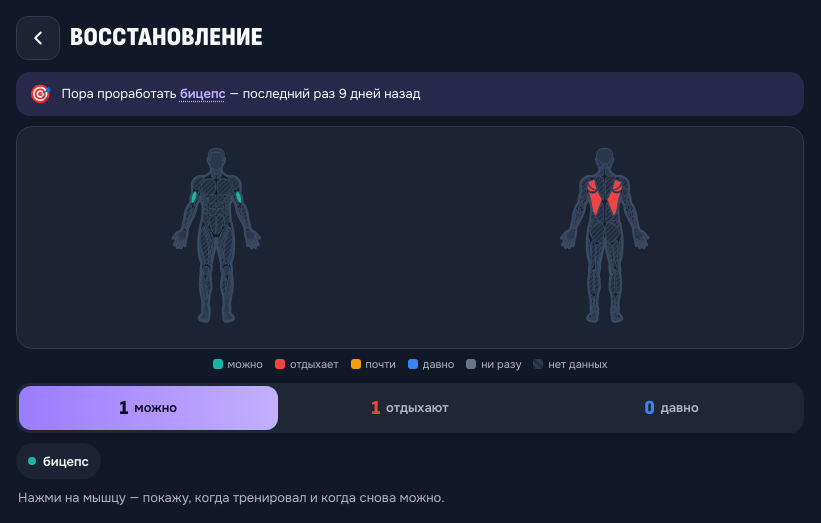
Test: FreshnessScreen «Восстановление» (v6.3.5) › у мышцы с другой группой группа в деталях остается
Click the button "1 отдыхают" at (410, 408), box [281, 386, 539, 430]
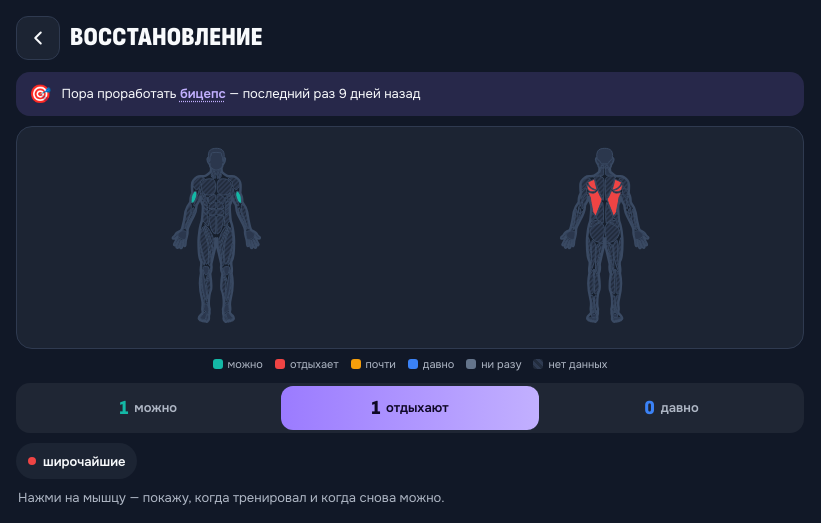
Click the button with class "fr-chip" at (77, 461), box [16, 443, 138, 479]
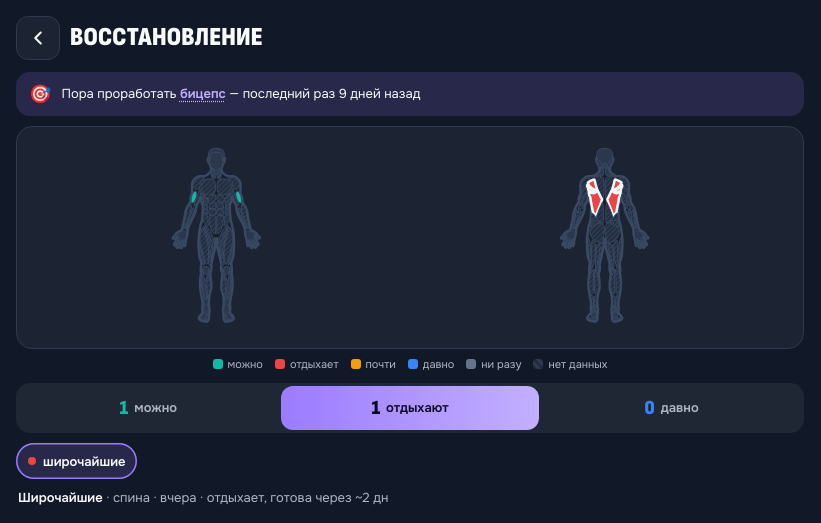
Now the element with class "fr-detail" shows "Широчайшие · спина ·", box [18, 489, 388, 506]
